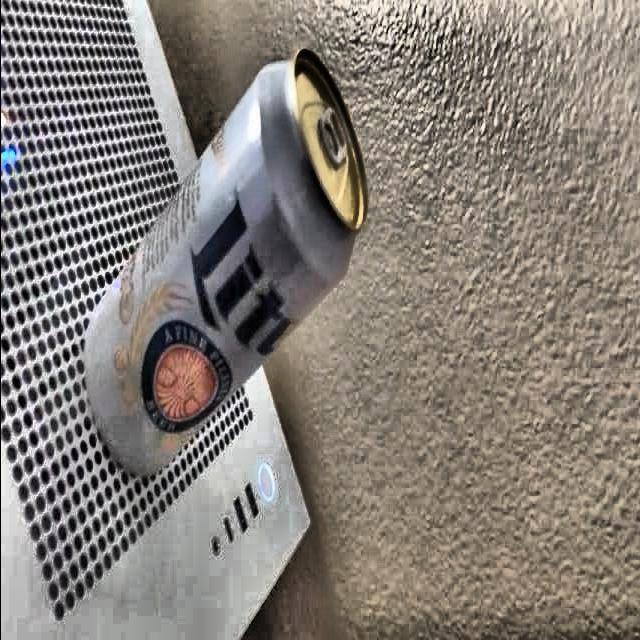litter: (66, 49, 373, 491)
